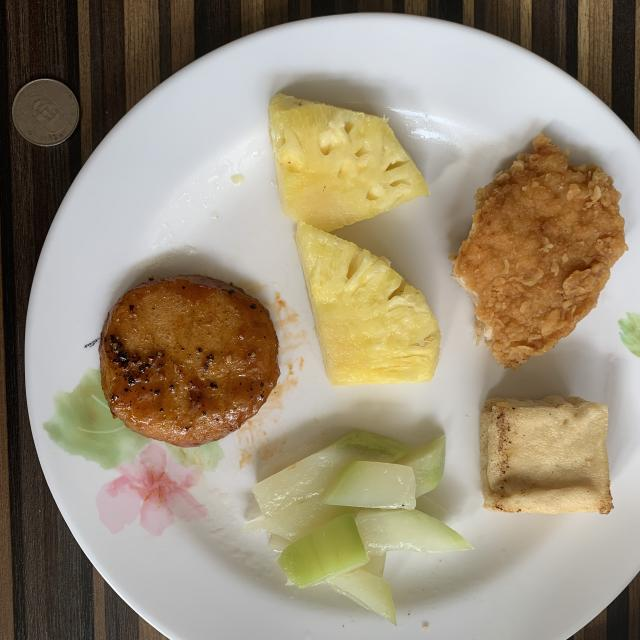coin: (12, 79, 79, 146)
creamy tofu -without sauce-: (480, 396, 614, 514)
fish cake: (99, 275, 280, 448)
fried chicken cutlet: (452, 134, 628, 369)
pineapple: (269, 94, 440, 385)
